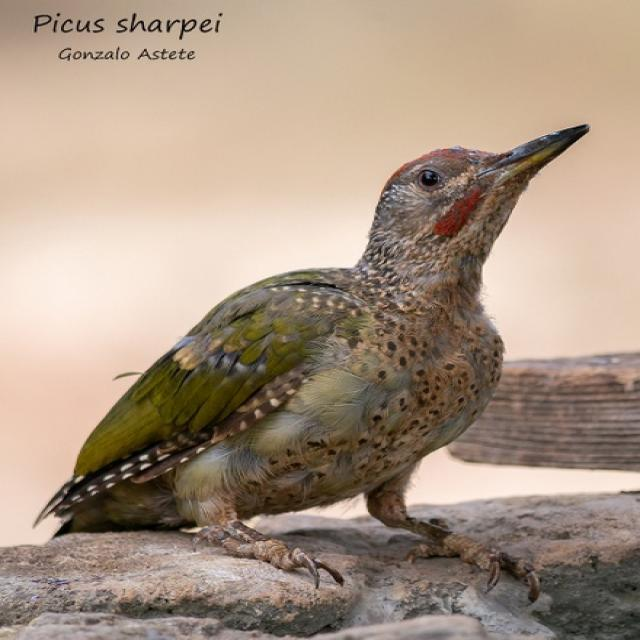bird: (1, 90, 638, 630)
